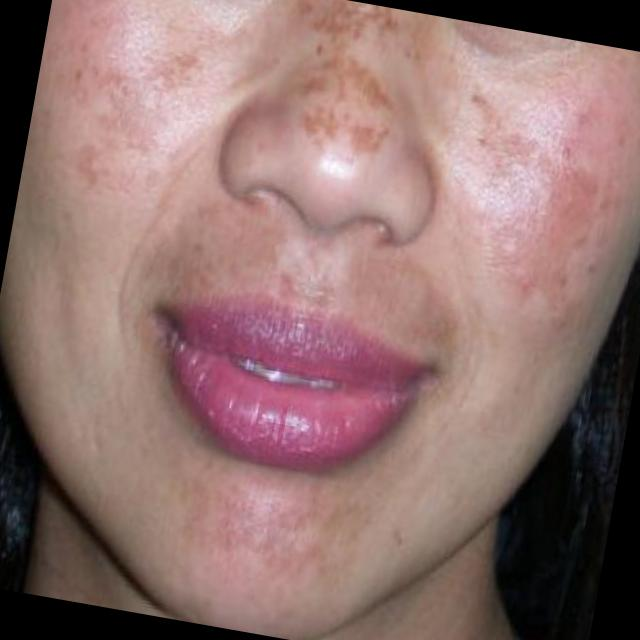melasma: (445, 56, 640, 408), (34, 0, 220, 288), (136, 194, 460, 354), (282, 0, 468, 191), (164, 465, 390, 615)
